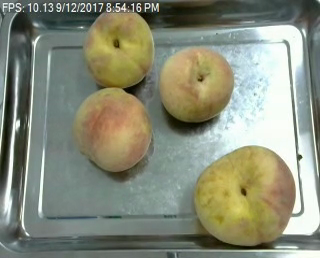Peach: (192, 143, 296, 246), (73, 87, 151, 172), (83, 7, 154, 88), (159, 45, 233, 122)
